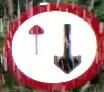Two way: (7, 2, 103, 88)
